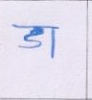aa_matra: (51, 29, 55, 58)
